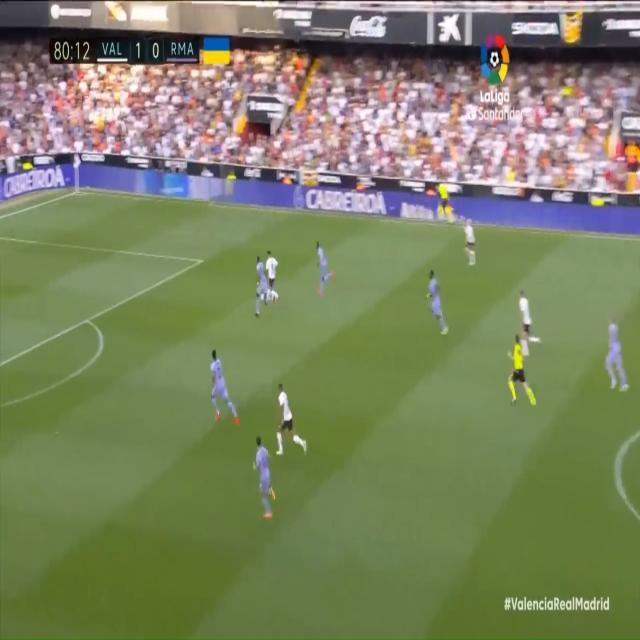player: (275, 381, 309, 457), (210, 344, 239, 426), (252, 430, 276, 521), (606, 313, 631, 399), (427, 269, 451, 342), (516, 286, 541, 350), (315, 240, 337, 293), (262, 246, 282, 301), (254, 251, 269, 321), (462, 218, 479, 269)
referee: (507, 334, 539, 410), (435, 177, 454, 227)
